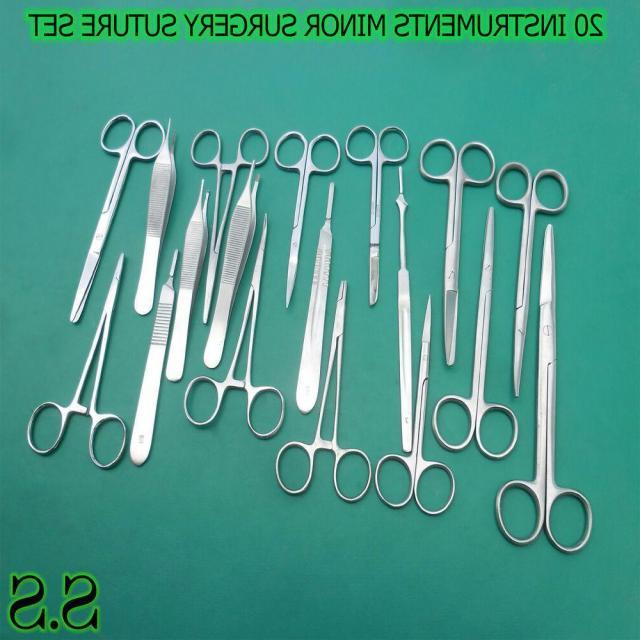Forceps: (202, 158, 260, 371), (132, 116, 178, 317), (165, 176, 209, 382)
Hemostat: (183, 211, 287, 441), (26, 250, 127, 470), (188, 126, 270, 324)
Iris: (374, 294, 456, 518), (273, 130, 341, 310)
Mayo_metz: (494, 219, 596, 559), (430, 203, 520, 462), (69, 113, 167, 326), (492, 158, 570, 400), (418, 136, 496, 368), (344, 124, 410, 308)
Scalpel: (128, 247, 180, 468), (294, 181, 336, 415), (394, 165, 414, 455)
